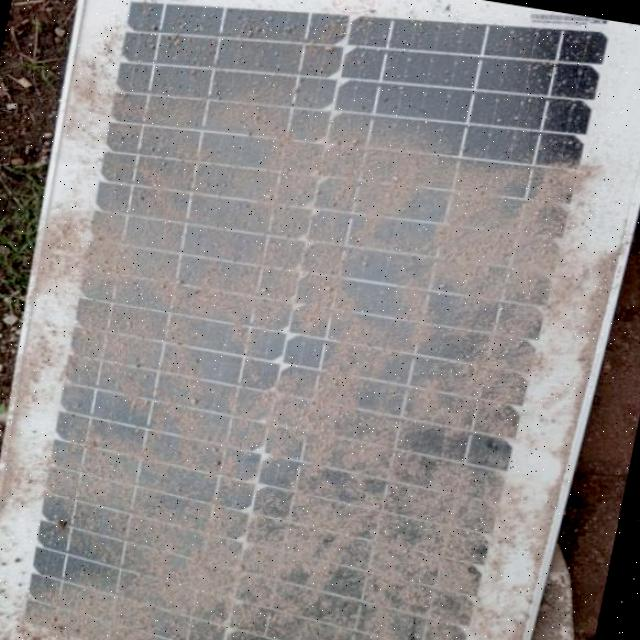Anomaly Solar Panel: (1, 0, 640, 640)
Surface Contaminant: (7, 0, 640, 640)
